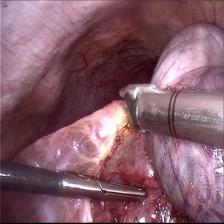Clipper: (112, 80, 181, 139)
Grasper: (63, 162, 148, 211)
